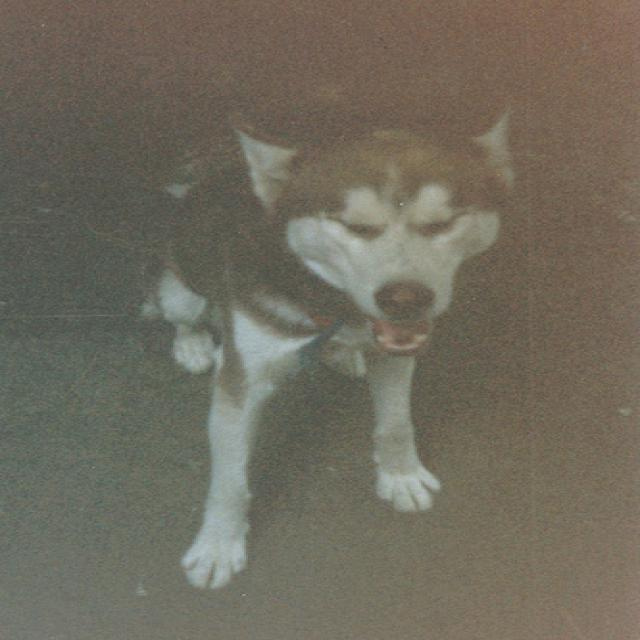Dog: (103, 112, 557, 624)
